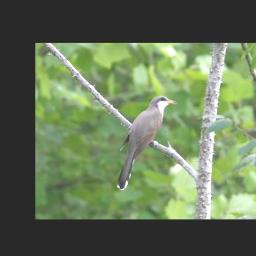Cuckoo: (116, 94, 178, 191)
